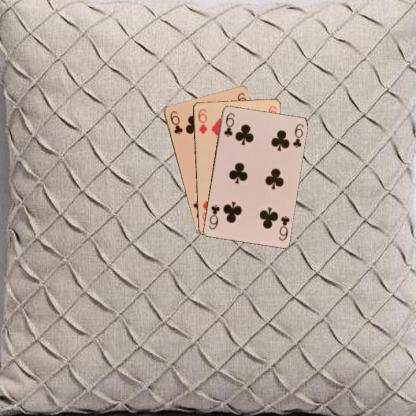6c: (276, 212, 291, 242), (168, 108, 184, 136), (221, 110, 236, 138)
6d: (195, 107, 208, 136)
